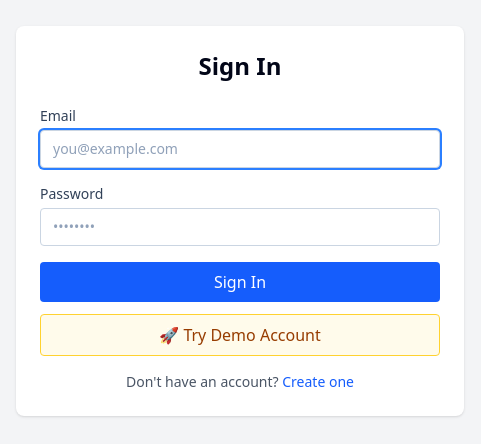
Test: LoginPage › shows validation error for invalid email
In the field with placeholder "you@example.com": (240, 149) [40, 130, 440, 168], type "alice@example.com"
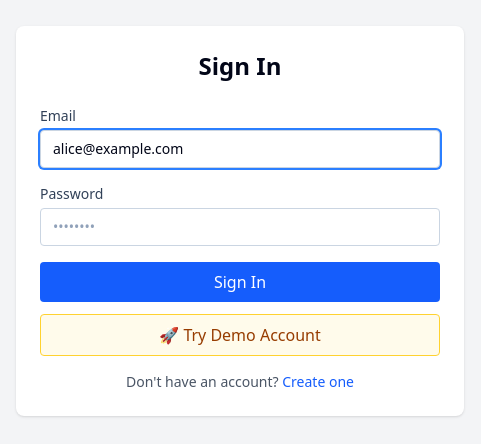
Click the button "Sign In": click(240, 282) [40, 262, 440, 302]
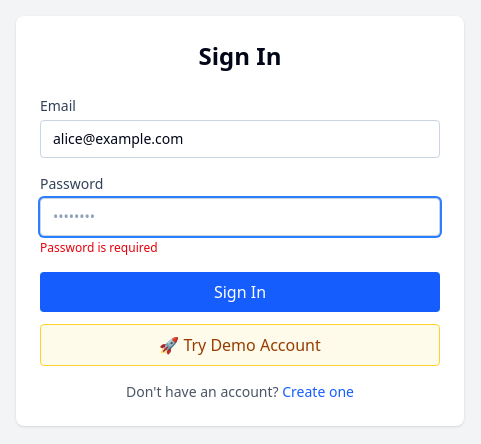
Now the text "Password is required" is shown, box [40, 239, 158, 256]
